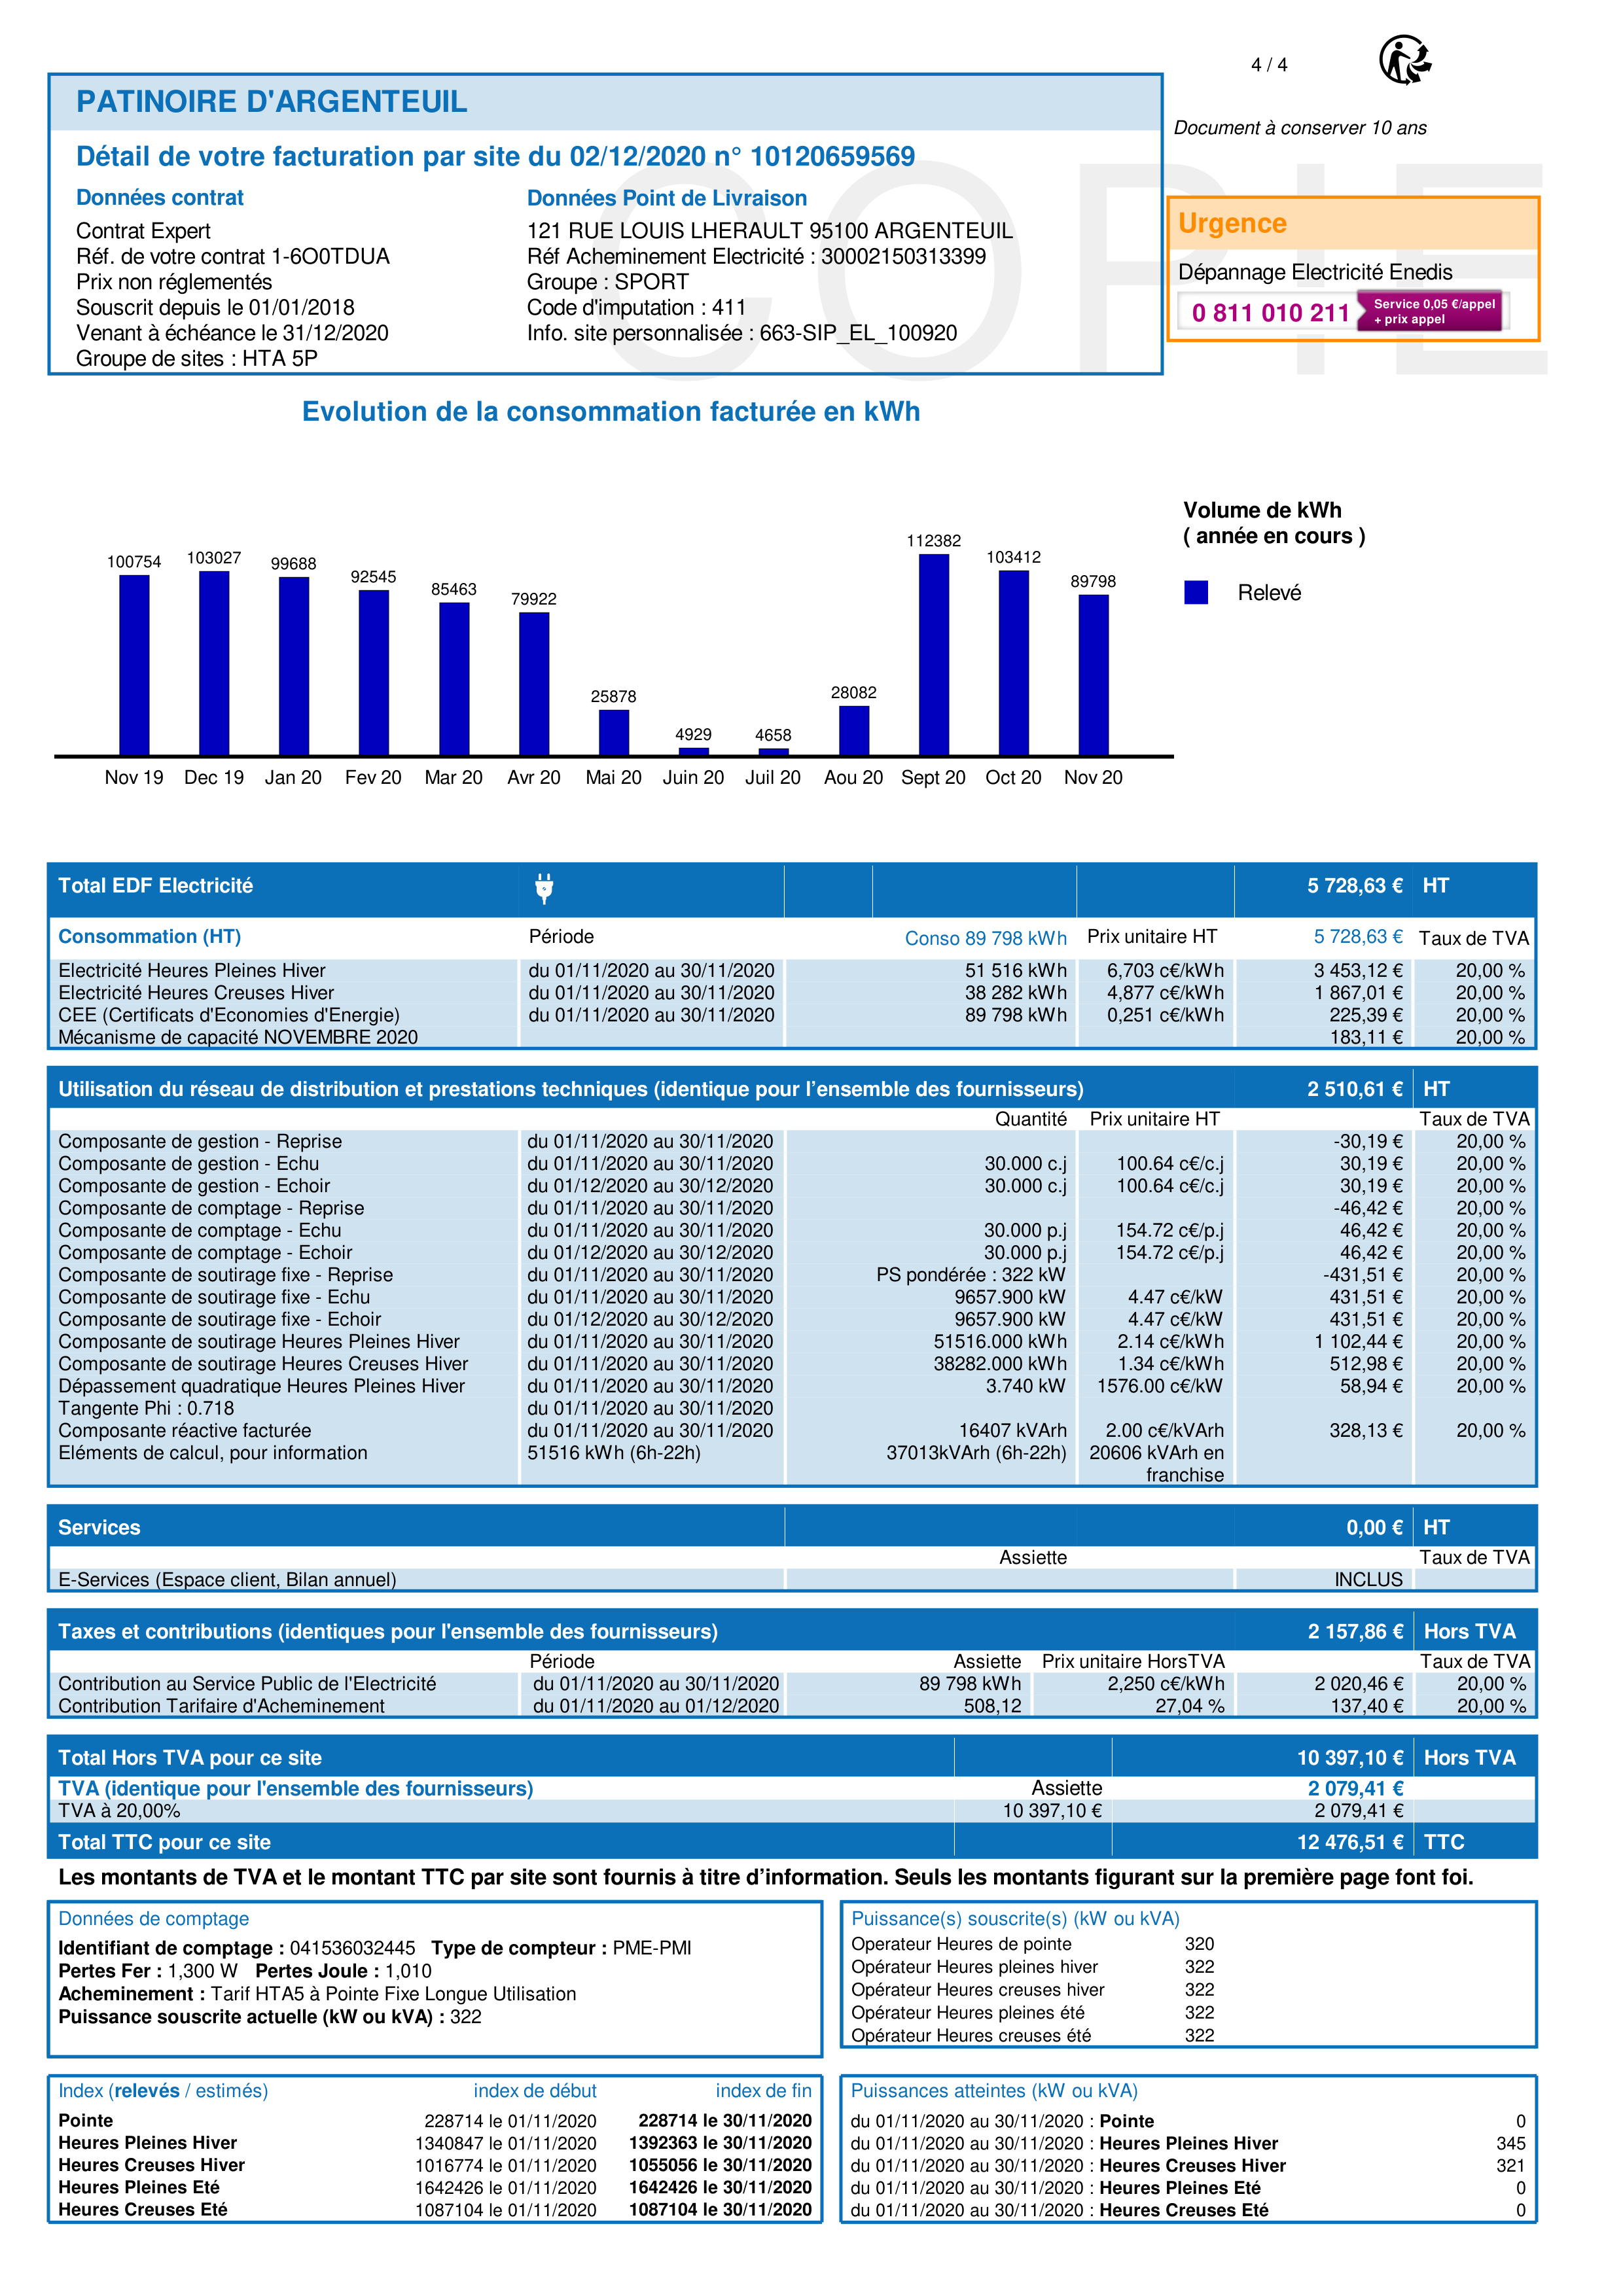area: (44, 2075, 824, 2222)
type_indicator: (51, 2075, 278, 2106)
